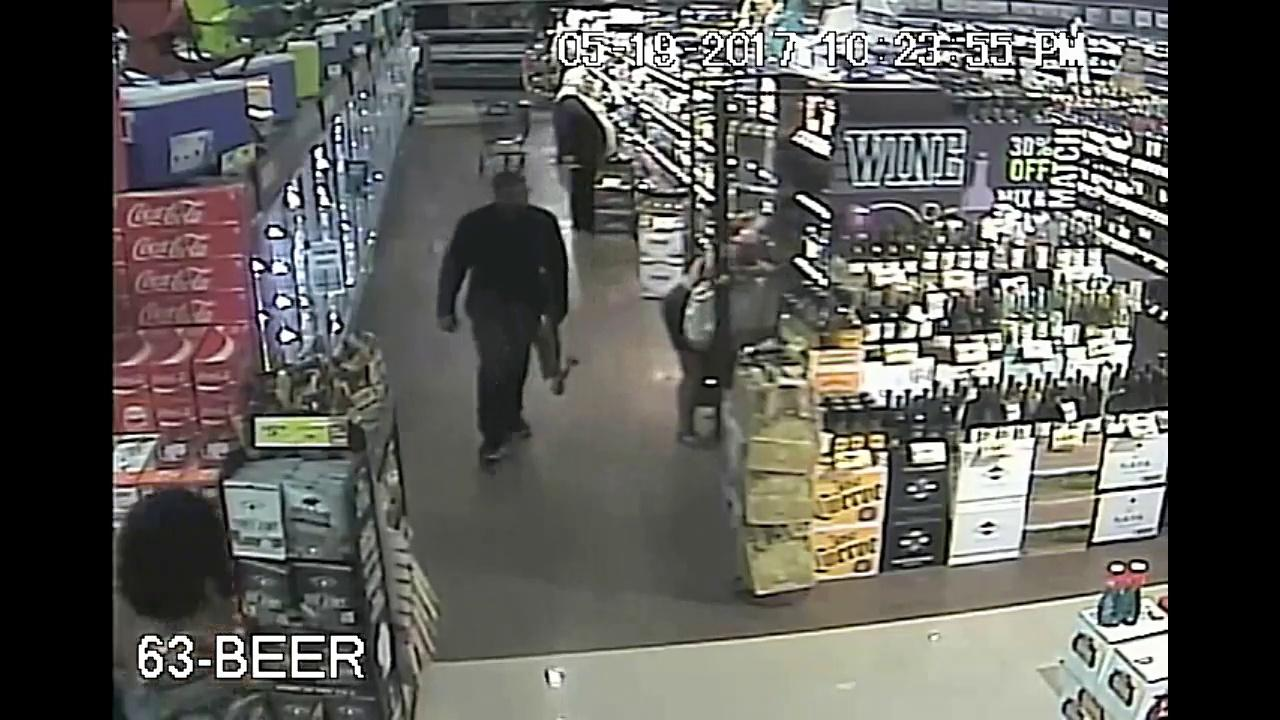Customer-Bagpack: (682, 274, 786, 346)
Regular: (420, 156, 592, 497), (649, 182, 821, 477), (100, 494, 294, 720), (543, 50, 612, 134)
